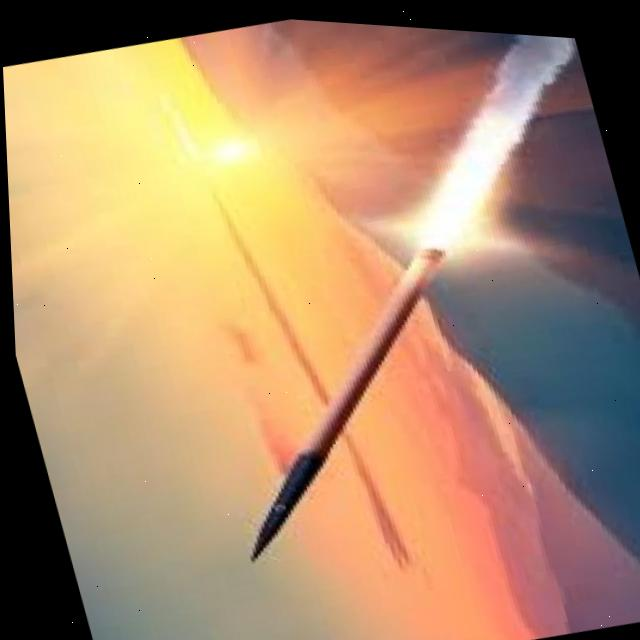missile: (167, 225, 511, 579)
